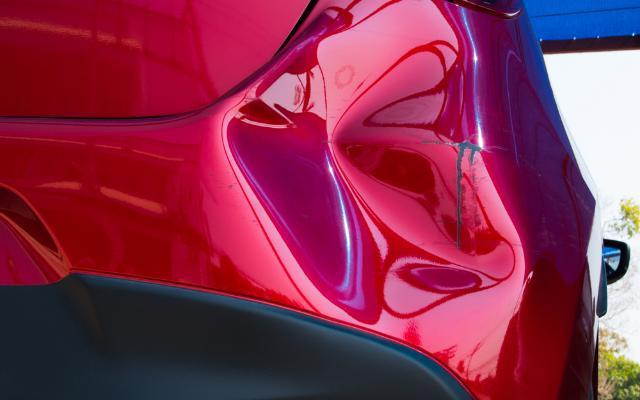dent: (217, 50, 515, 322)
